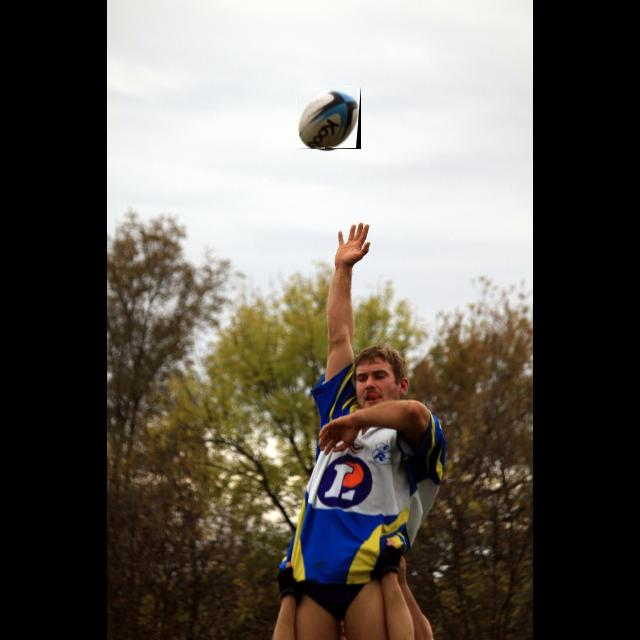Football: (297, 87, 361, 149)
